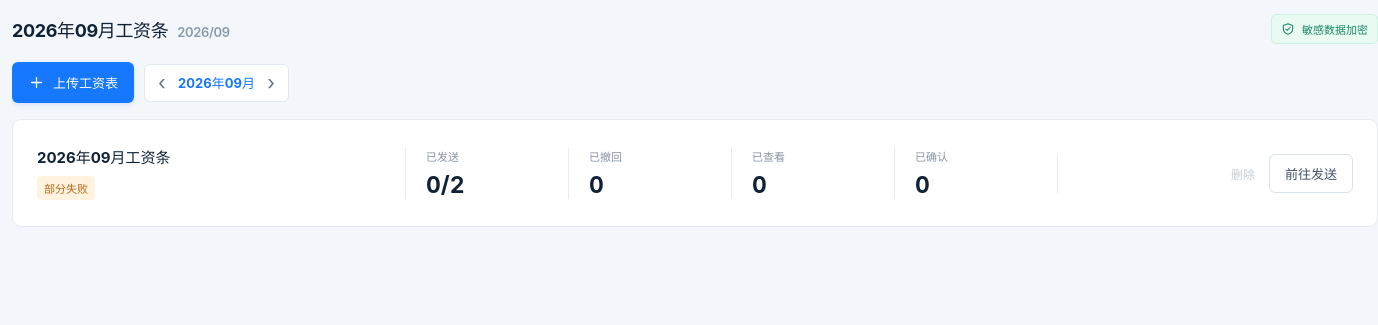
salary management › renders failed and withdrawn employee delivery states
The width and height of the screenshot is (1378, 325).
Click the button "前往发送". click: (1311, 173)
box: [1269,154,1353,192]
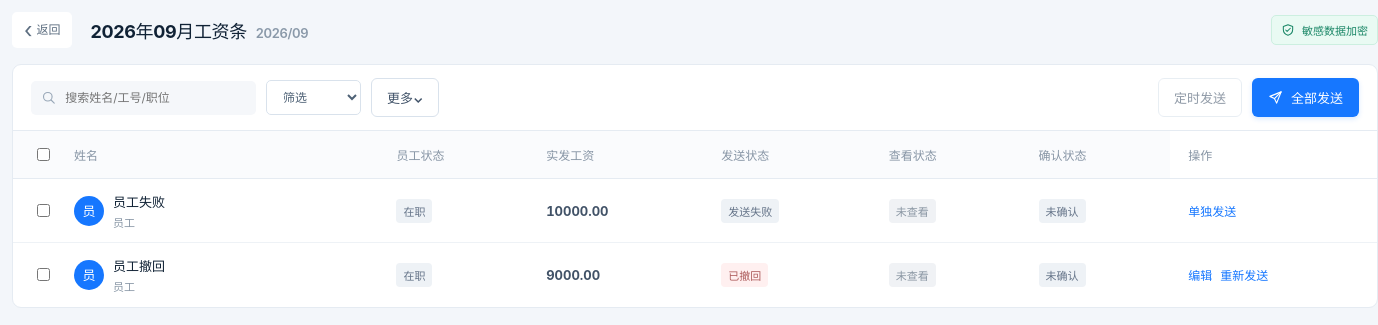
Expected: the text with class "status-withdrawn" reads "已撤回", [728,269,761,283]
Result: the text "员工失败" is shown at [113,192,165,210]
Result: the text with class "status-failed" reads "发送失败" at [728,204,772,218]
